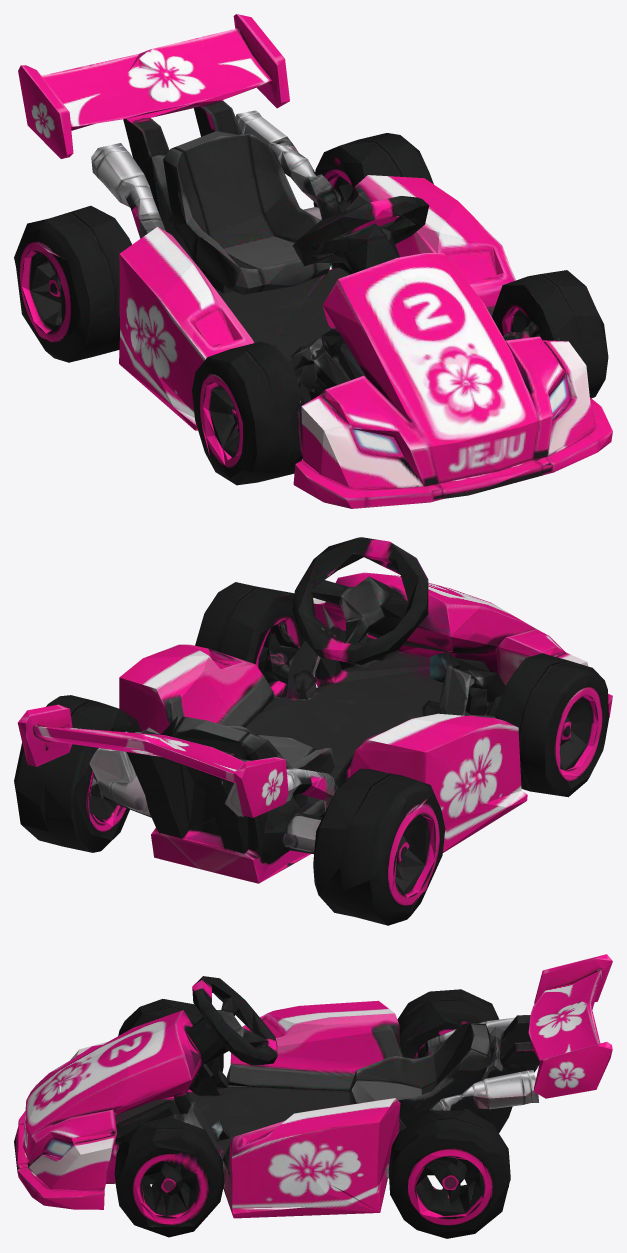
File: kart2.glb
3 renders of one model, top to bottom at view 1: azimuth 30°, elevation 25°; view 2: azimuth 150°, elevation 25°; view 3: azimuth 270°, elevation 25°, orthographic. The views are drawn at different scales.
Visible parts, largest first — view 1: body, wheel_BL, wheel_FL, wheel_FR, wheel_BR; view 2: body, wheel_BL, wheel_FL, wheel_BR, wheel_FR; view 3: body, wheel_BR, wheel_FR, wheel_BL, wheel_FL.
Part boxes in pixels (x1,y1,x2,y2): body: (18, 14, 612, 508); wheel_BL: (14, 180, 155, 362); wheel_FL: (178, 338, 311, 485); wheel_FR: (469, 246, 608, 398); wheel_BR: (303, 133, 433, 220); body: (17, 537, 612, 883); wheel_BL: (283, 750, 445, 925); wheel_FL: (469, 646, 608, 797); wheel_BR: (14, 695, 169, 852); wheel_FR: (195, 582, 341, 713); body: (14, 954, 612, 1218); wheel_BR: (377, 1101, 510, 1238); wheel_FR: (105, 1111, 266, 1237); wheel_BL: (397, 989, 499, 1058); wheel_FL: (118, 999, 261, 1092).
Size of the model in its own units: 1.12 by 0.6474 by 1.9.
1 material, 1 textured.
